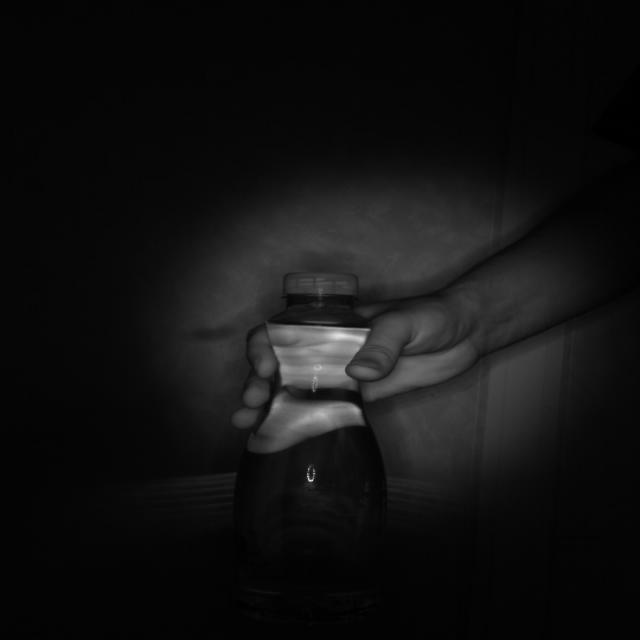Good: (283, 269, 361, 296)
